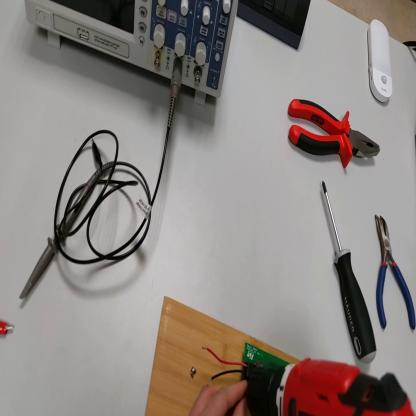electric screwdriver: (245, 361, 416, 416)
hand: (189, 377, 249, 412)
high voltage board: (202, 344, 292, 386)
oscilloscope: (23, 3, 240, 108)
oscilloscope probe tip: (20, 160, 117, 302)
pliers: (288, 94, 383, 167), (375, 212, 416, 333)
screwdriver-: (323, 181, 379, 363)
working area: (145, 299, 302, 416)
